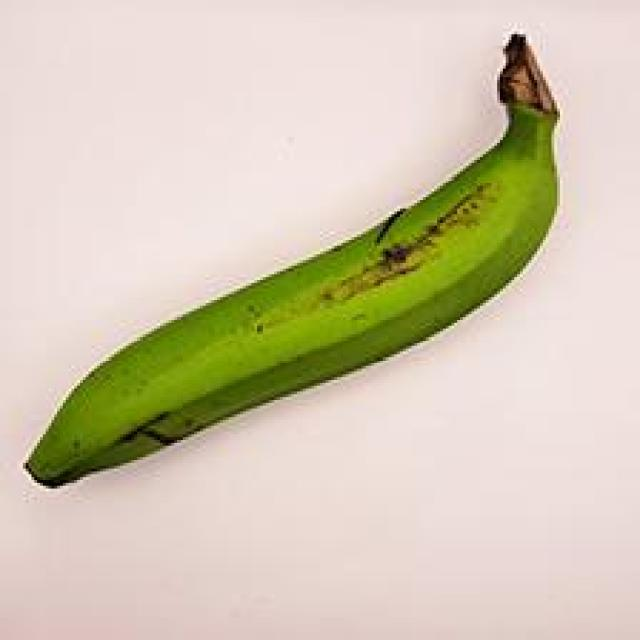Raw: (12, 26, 606, 510)
